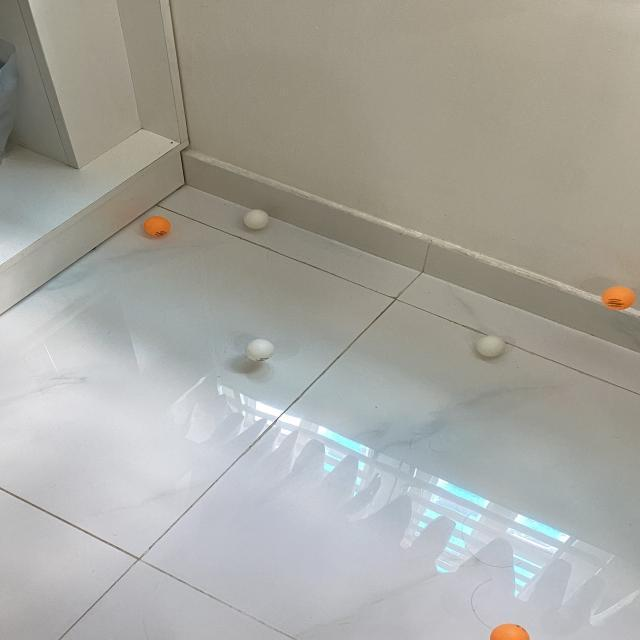ping-pong-ball: (601, 285, 636, 311), (479, 334, 507, 358), (246, 339, 276, 361), (243, 209, 271, 231), (144, 216, 172, 237), (490, 625, 529, 640)
